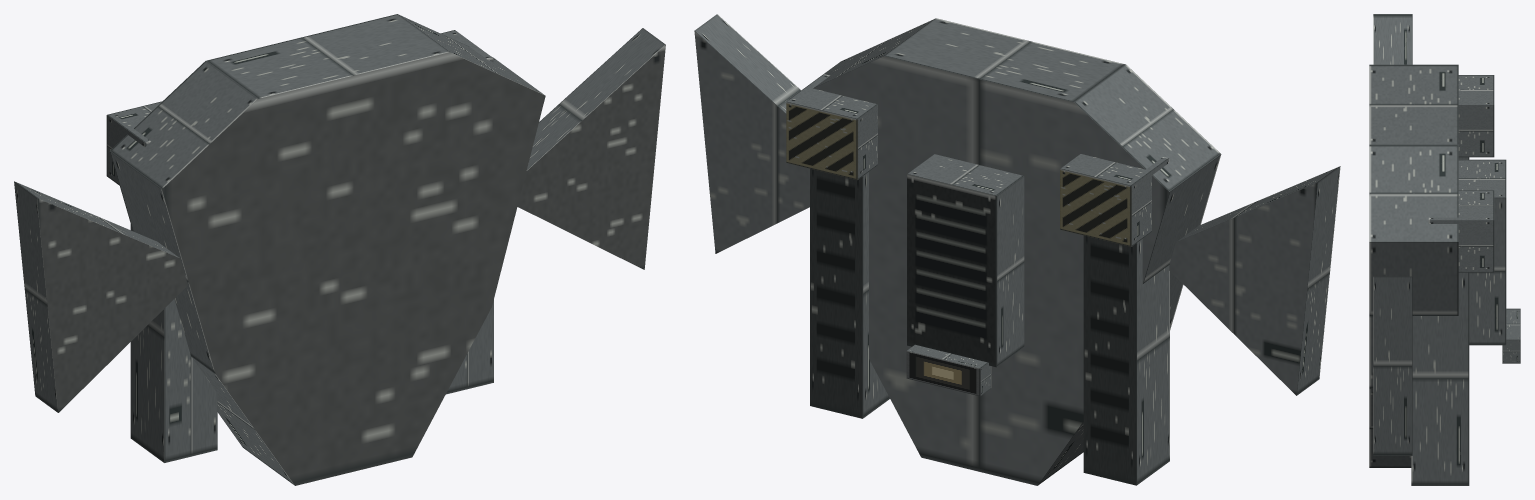
Rendered from Enemy_1.obj.
3 views of the same model, side by side, from view 1: azimuth 30°, elevation 25°; view 2: azimuth 150°, elevation 25°; view 3: azimuth 270°, elevation 25° (orthographic). The views are drawn at different scales.
Size of the model in its own units: 2.36 by 1.42 by 0.575.
1 material, 1 textured.
